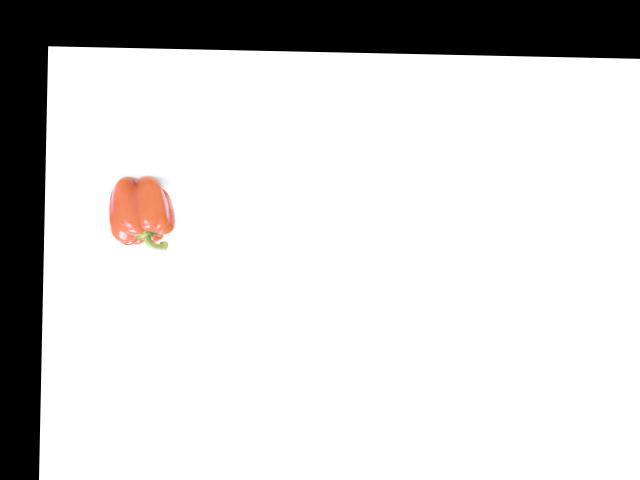bell_pepper: (106, 174, 176, 251)
